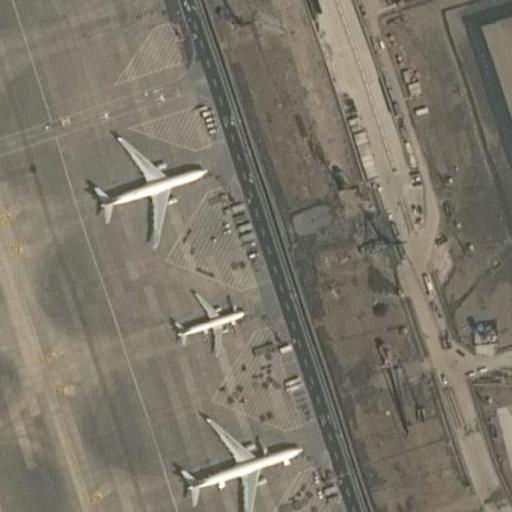Aircraft: (75, 134, 209, 233), (173, 415, 306, 512), (175, 291, 247, 347)
